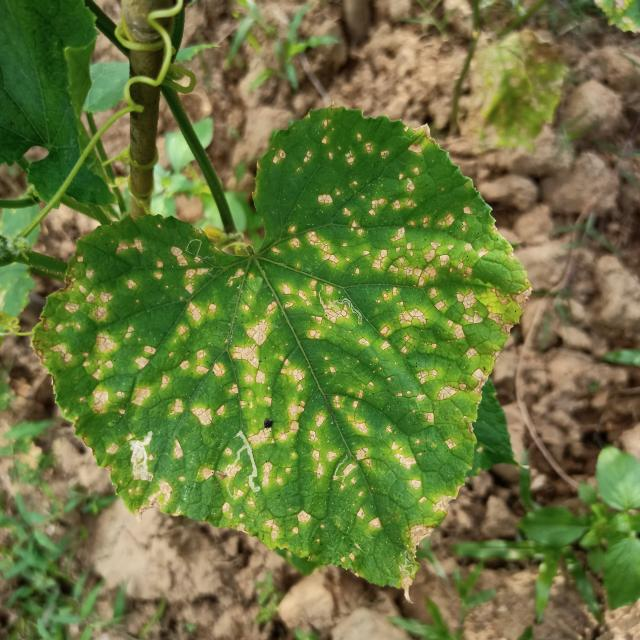disease_cucumber: (65, 127, 512, 579)
